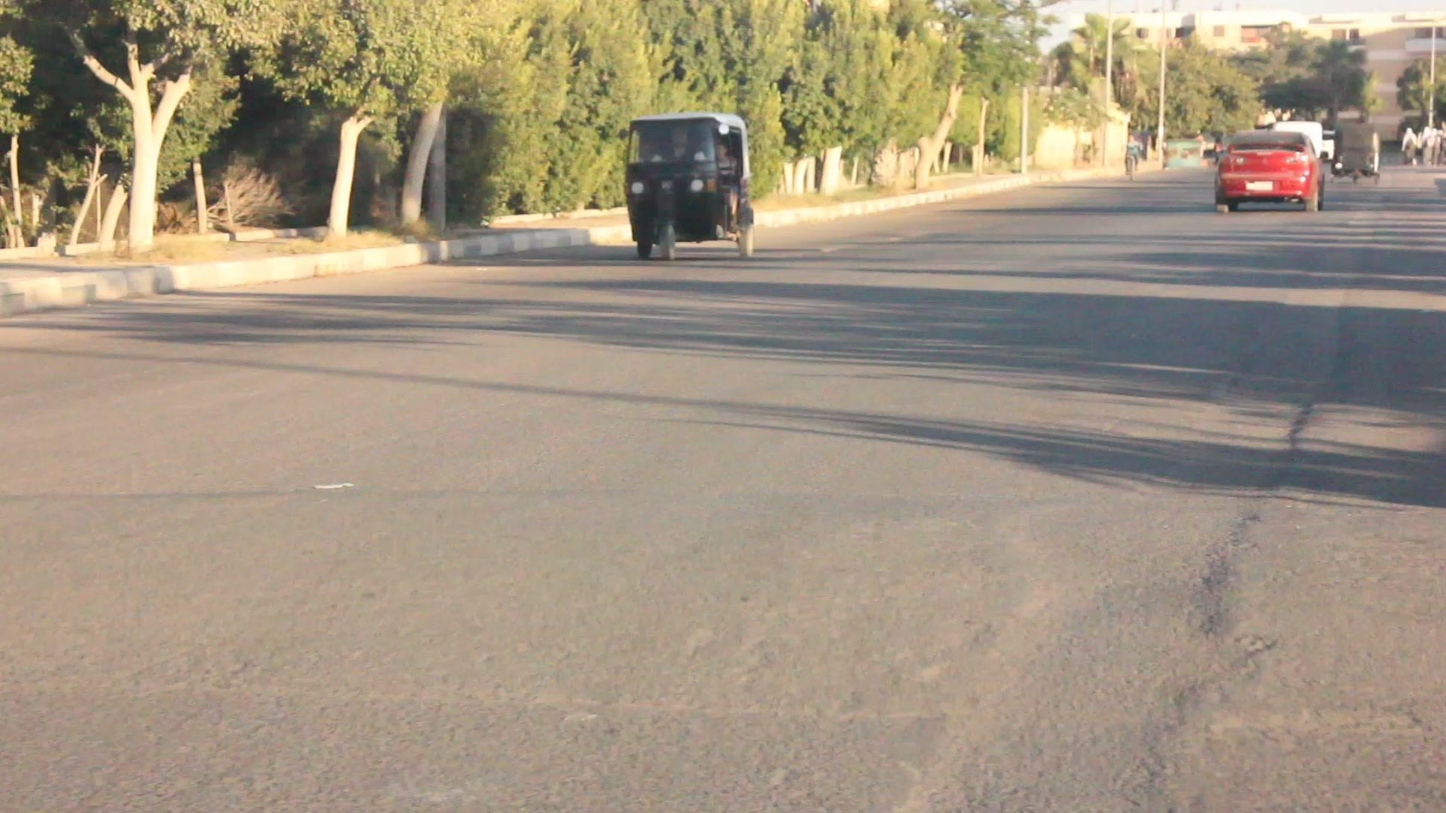Pothole: (983, 501, 1184, 796)
